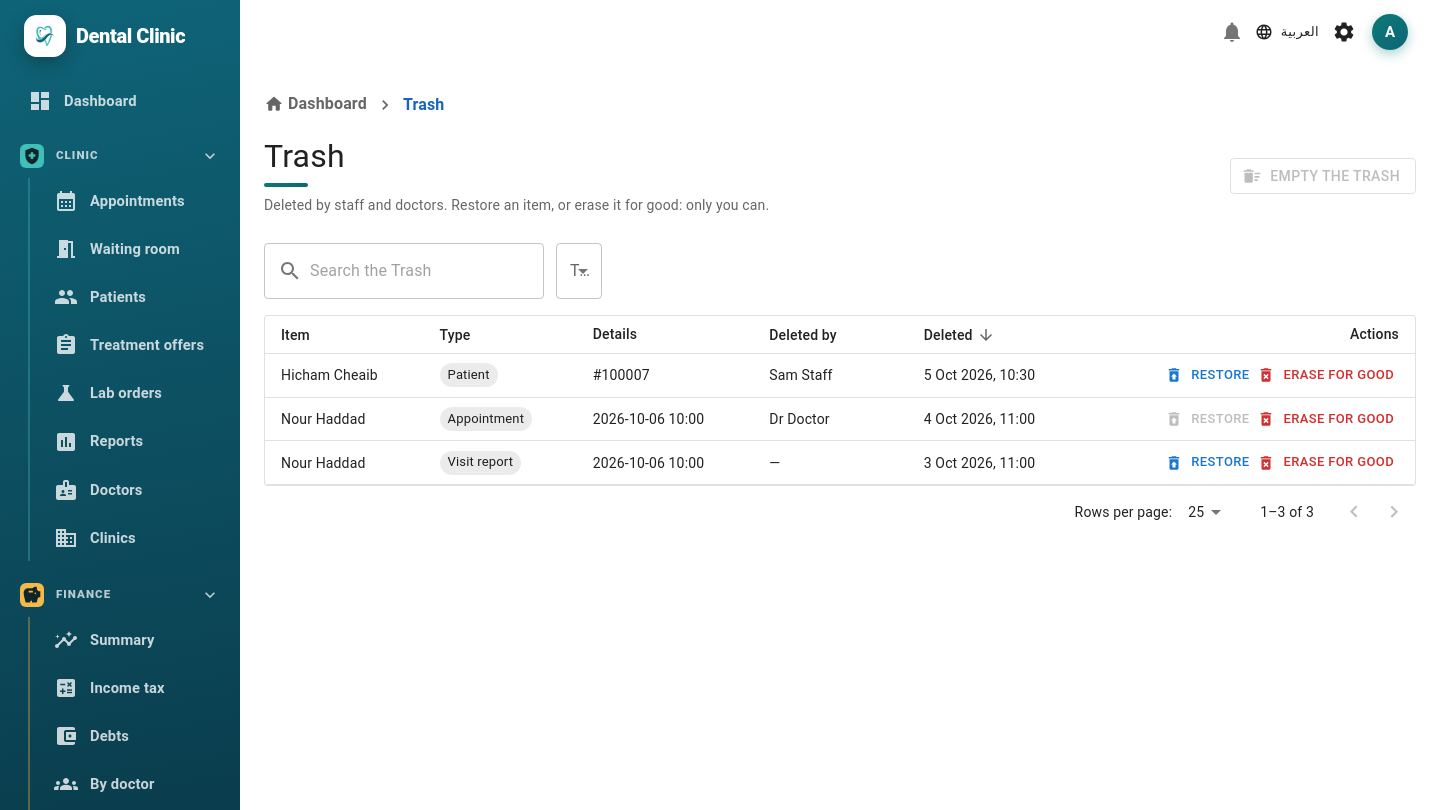
Test: Trash page › keeps the item and shows the reason when the server refuses
Click the button with aria-label "Erase Hicham Cheaib for good". click: (1327, 375)
box: left=1254, top=360, right=1399, bottom=391
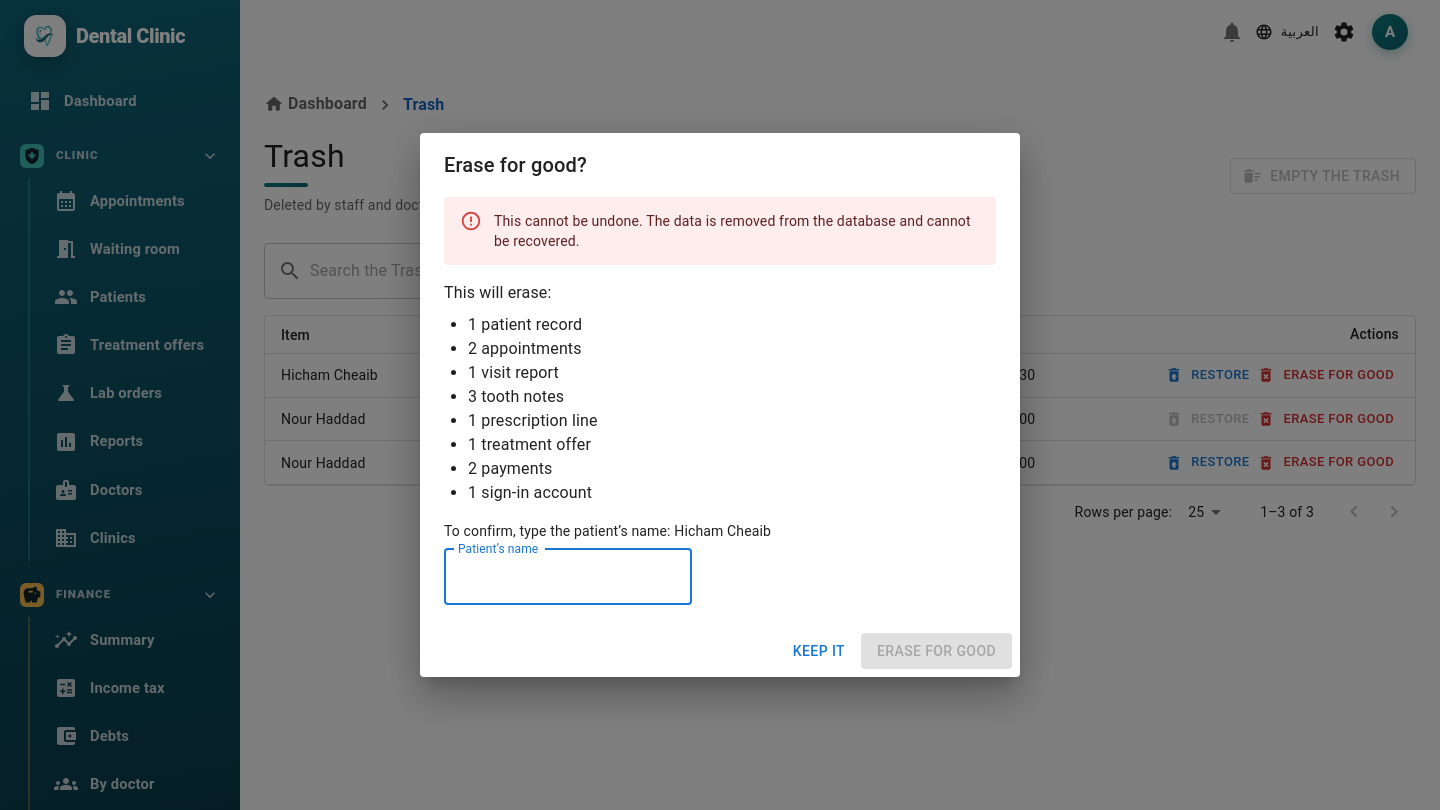
Now the list item "2 appointments" is shown, box left=468, top=339, right=582, bottom=358
Type "hicham cheaib" into the field labelled "Patient’s name". click: (568, 577)
box: left=444, top=549, right=692, bottom=605
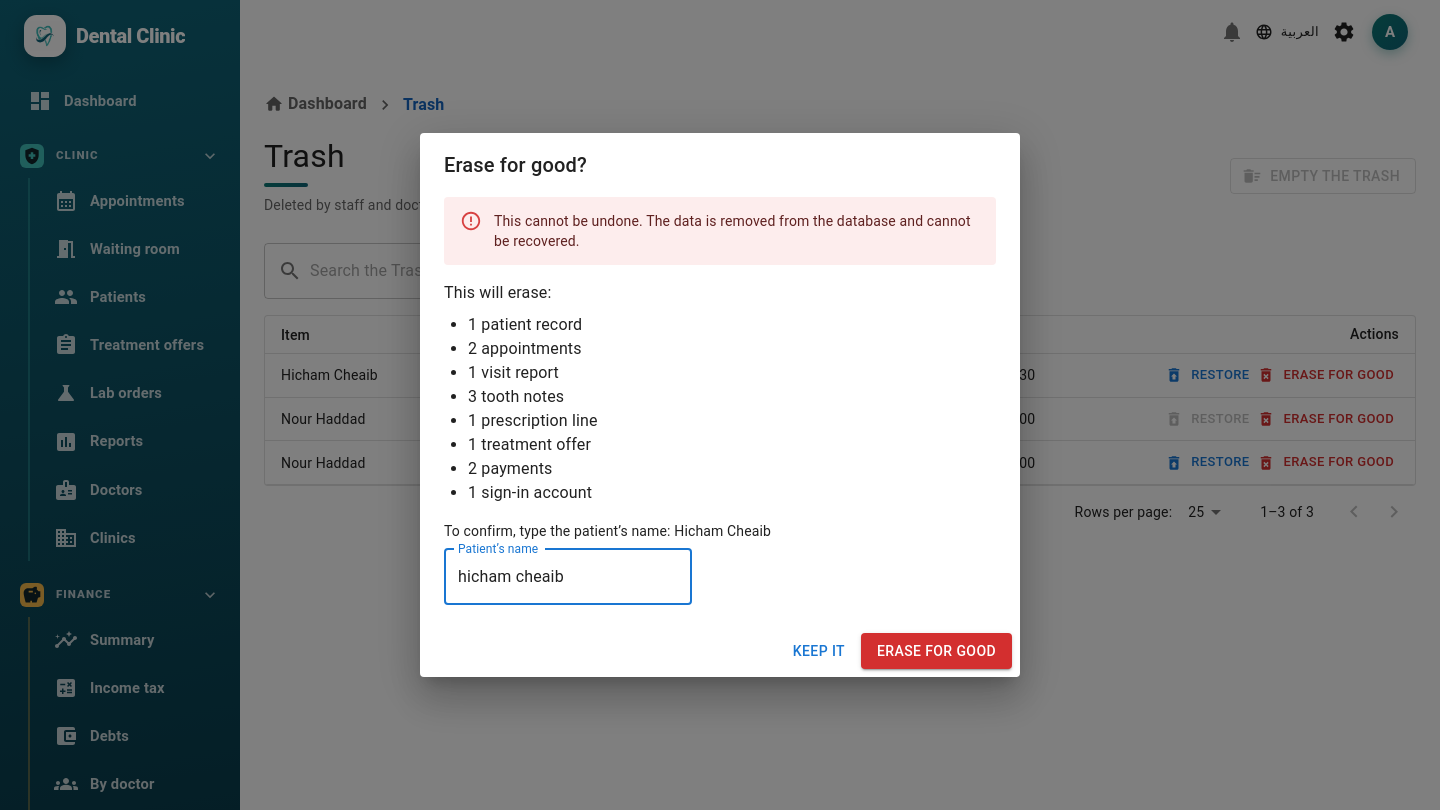
Click the button "Erase for good". click: (936, 651)
box: left=861, top=633, right=1012, bottom=669
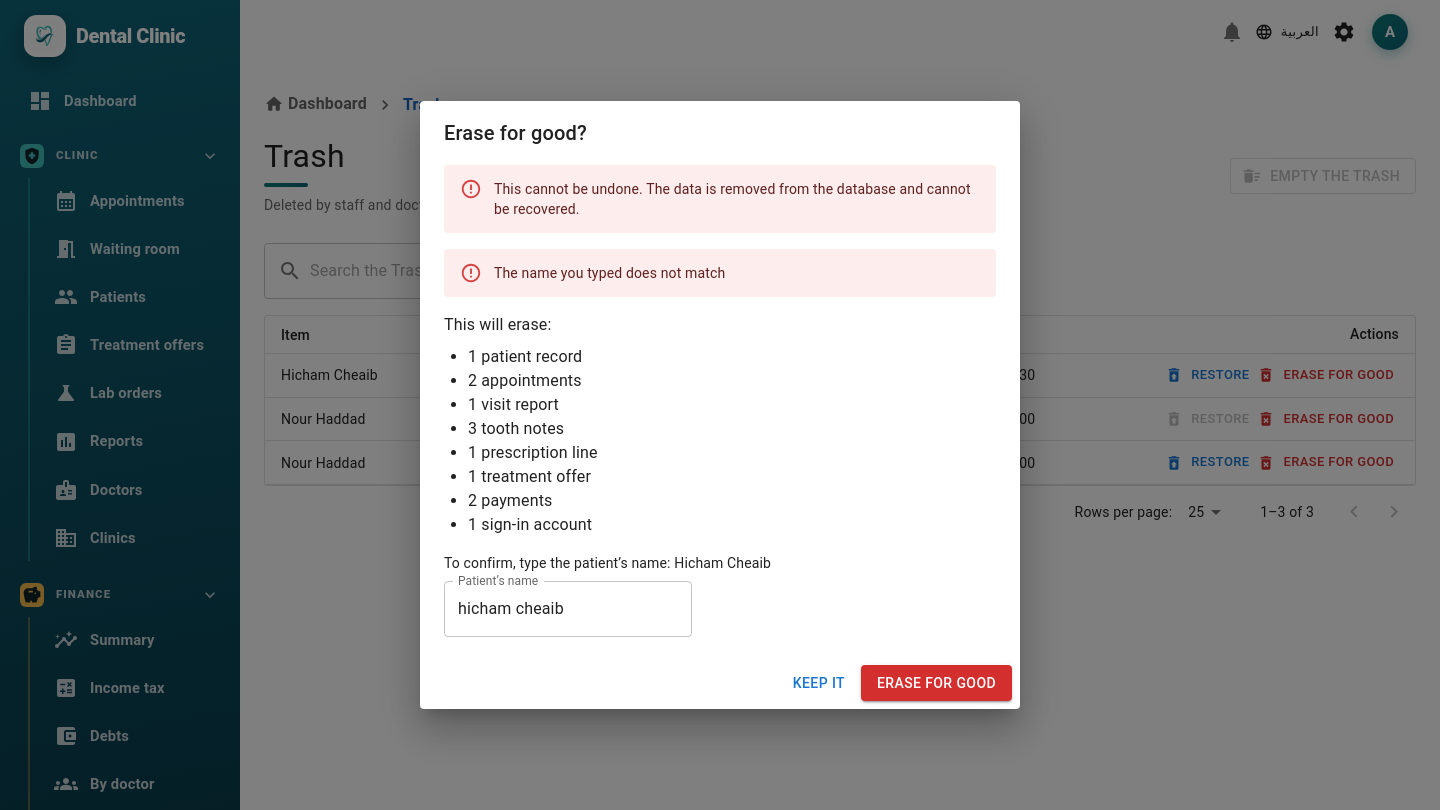
Now the text "The name you typed does not match" is shown, box left=494, top=265, right=725, bottom=281
